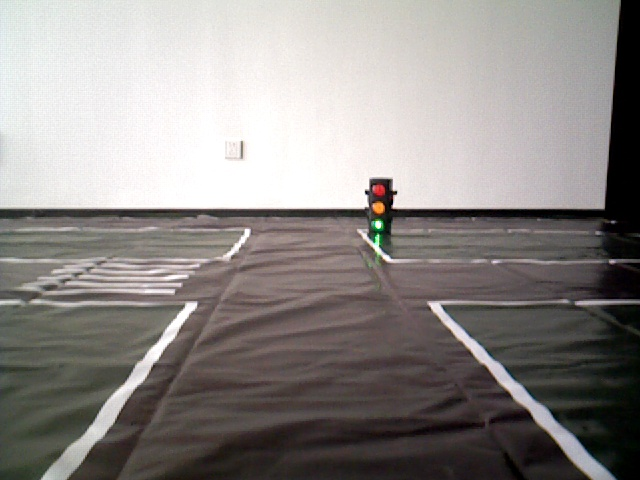green: (371, 178, 387, 236)
